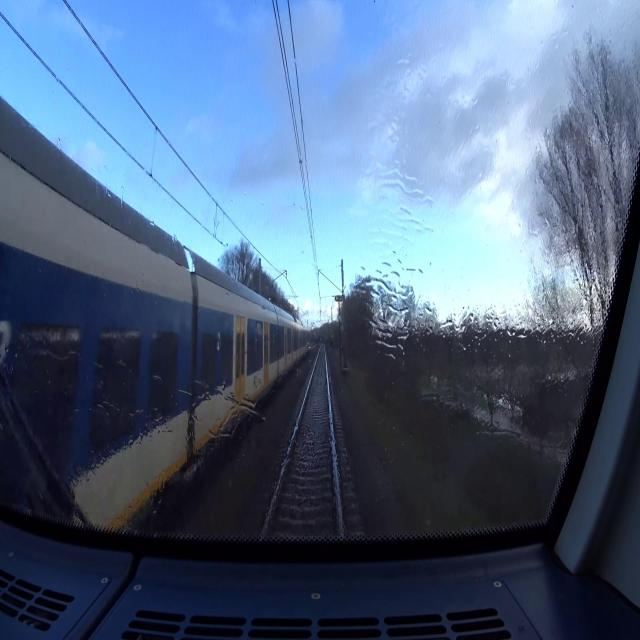rail-track: (264, 346, 339, 539)
